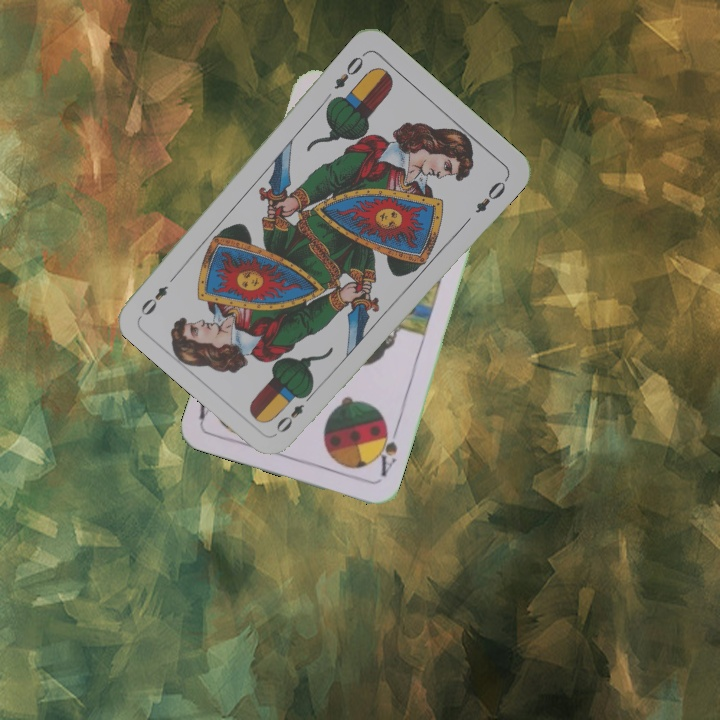EO: (272, 387, 317, 436), (330, 48, 368, 92)
SA: (371, 421, 401, 479)
